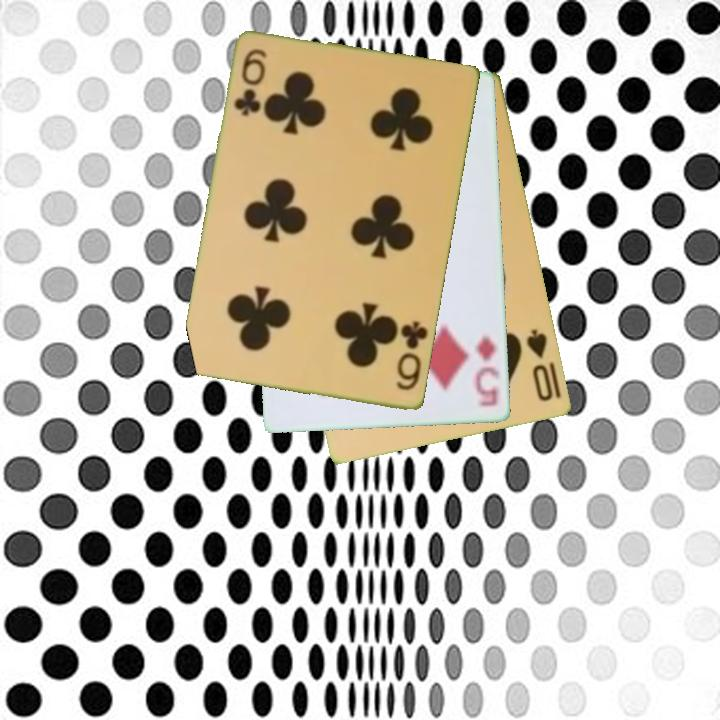10s: (523, 325, 557, 405)
5d: (473, 333, 503, 410)
6c: (231, 45, 270, 120), (393, 318, 431, 394)
